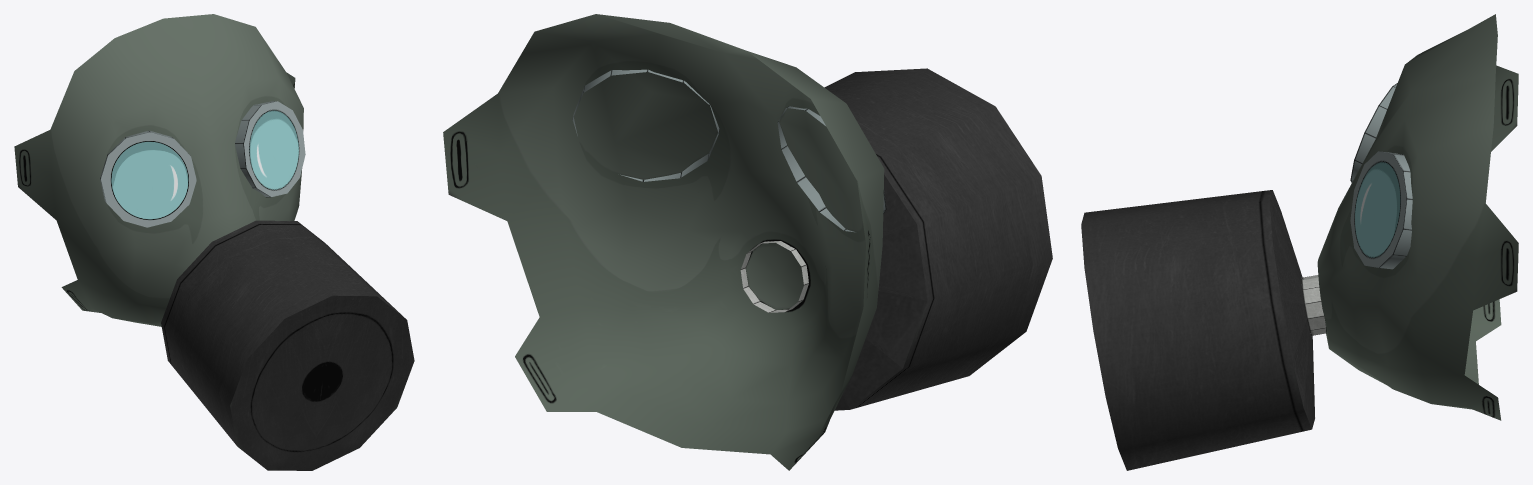
The model's file is Gas Mask.FBX.
3 renders of one model, left to right at view 1: azimuth 30°, elevation 25°; view 2: azimuth 150°, elevation 25°; view 3: azimuth 270°, elevation 25°, orthographic. The views are drawn at different scales.
Parts seen in each view (by area): view 1: Sphere001; view 2: Sphere001; view 3: Sphere001.
Part boxes in pixels (x1=…): Sphere001: x1=14, y1=14, x2=414, y2=470; Sphere001: x1=443, y1=14, x2=1052, y2=470; Sphere001: x1=1081, y1=14, x2=1518, y2=470.
Size of the model in its own units: 23.43 by 27.35 by 25.62.
